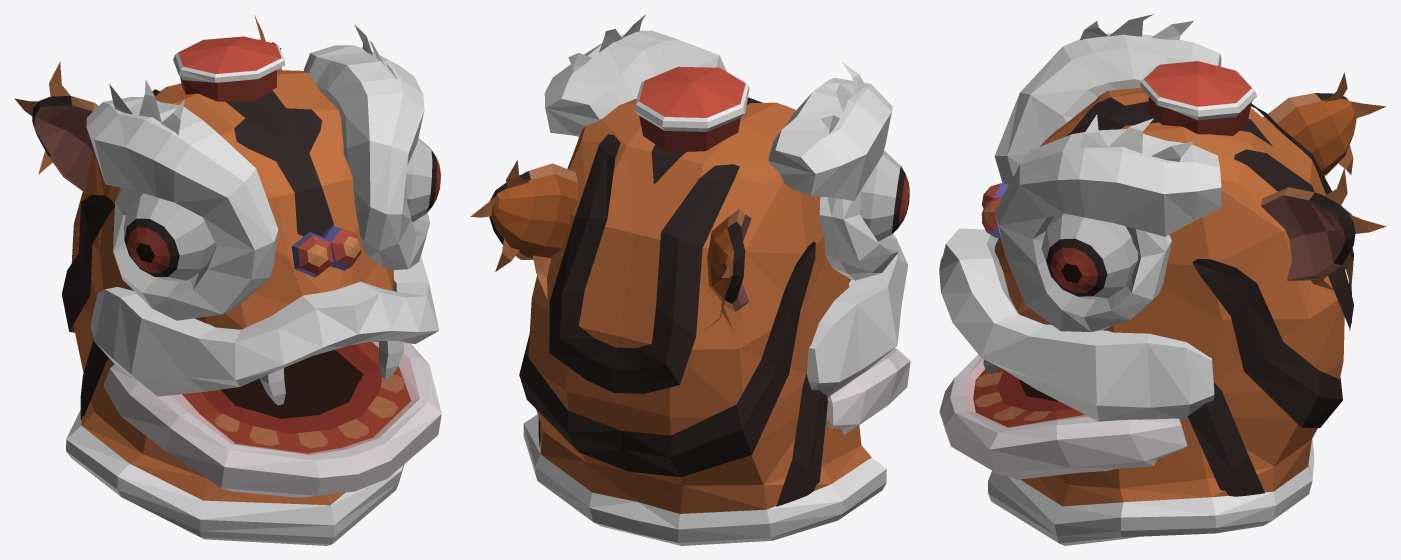
The model's file is chineseNewYearTigerHat.glb.
The picture shows the model from 3 angles, left to right: view 1: azimuth 30°, elevation 25°; view 2: azimuth 150°, elevation 25°; view 3: azimuth 270°, elevation 25°; orthographic projection. The views are drawn at different scales.
Visible parts, largest first — view 1: chineseNewYearTigerHat; view 2: chineseNewYearTigerHat; view 3: chineseNewYearTigerHat.
Part boxes in pixels (box(x1,y1,x2,y2)): chineseNewYearTigerHat: box(14, 15, 441, 545); chineseNewYearTigerHat: box(470, 14, 910, 545); chineseNewYearTigerHat: box(939, 14, 1386, 545).
Bounding box in the file's own units: 0.5111 × 0.6893 × 0.6344.
